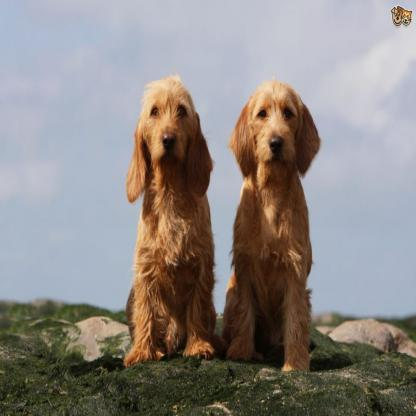American Cocker Spaniel: (121, 64, 222, 380), (230, 71, 322, 393)
